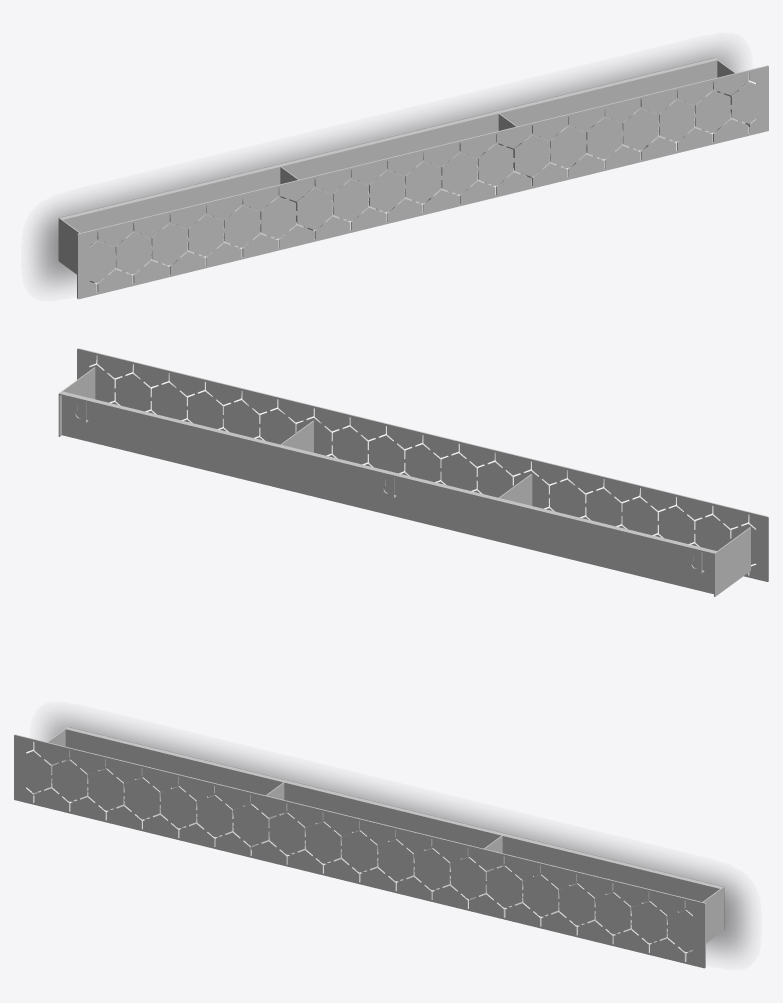
Rendered from bee-mono.08655538d4.ar.glb.
The picture shows the model from 3 angles, top to bottom: view 1: azimuth 30°, elevation 25°; view 2: azimuth 150°, elevation 25°; view 3: azimuth 330°, elevation 25°; orthographic projection.
Visible parts, largest first — view 1: NAUO1, object 2; view 2: NAUO1; view 3: NAUO1, object 2.
Part boxes in pixels (x1,y1,x2,y2): NAUO1: [58, 57, 768, 299]; object 2: [34, 48, 738, 285]; NAUO1: [58, 348, 768, 596]; NAUO1: [14, 726, 724, 968]; object 2: [44, 717, 748, 954].
Bounding box in the file's own units: 1.08 × 0.17 × 0.092.
Materials: 2 (1 with a texture image).
